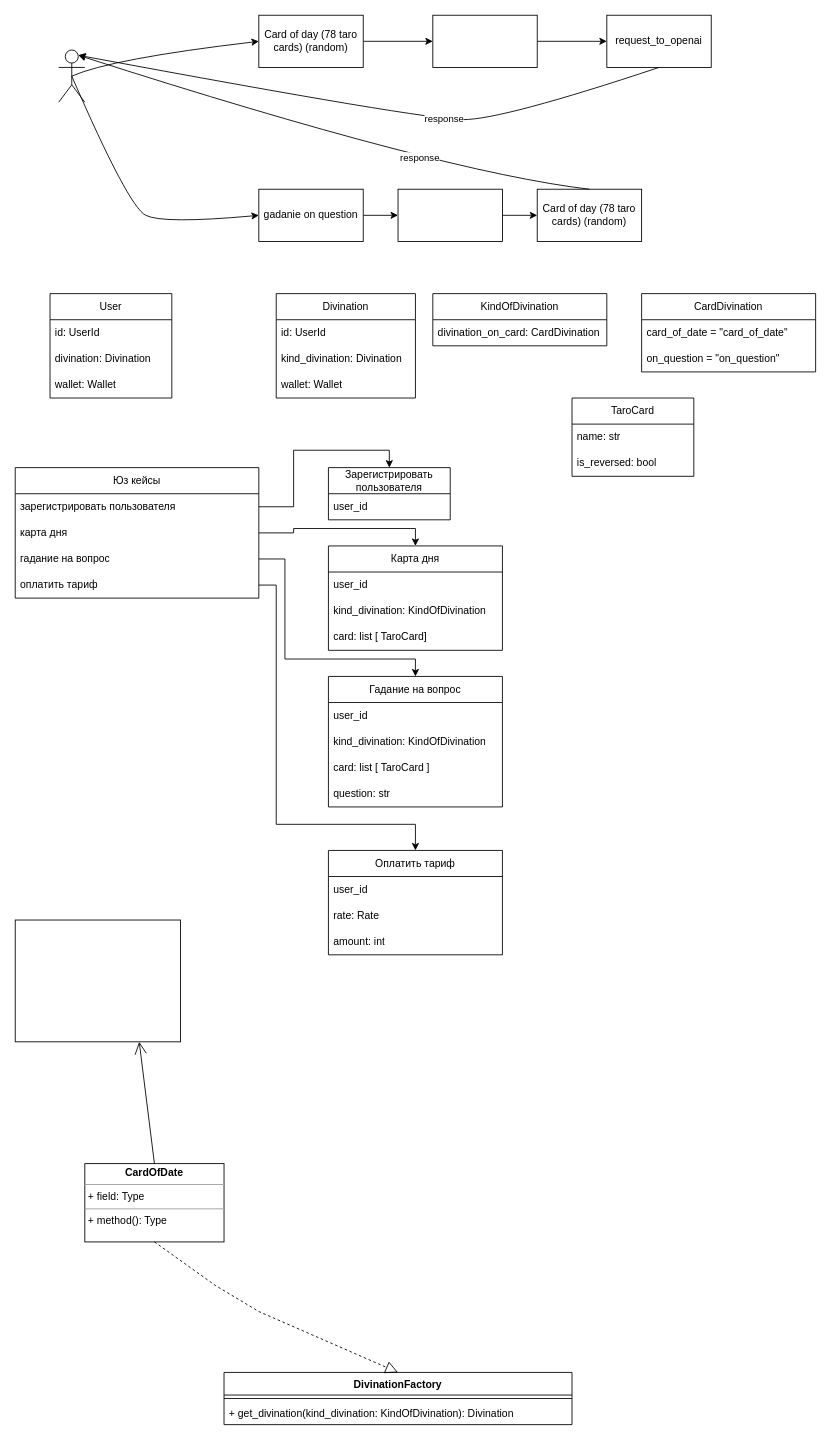
Some shapes in this 831 by 1442 pixel diagram are drawn without their labels. Here are the shapes that lost their labels. From the top down, the centre of each, then its label:
At (x=484, y=40): "is_reversed".
At (x=71, y=75): "Actor".
At (x=449, y=214): "insert question".
At (x=97, y=980): "<<Interface>> IDivination + method1(Type): Type + method2(Type, Type): Type".
